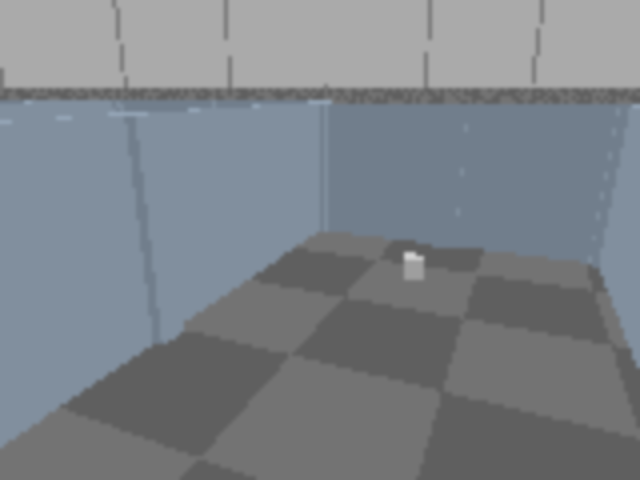puck: (403, 253, 424, 280)
